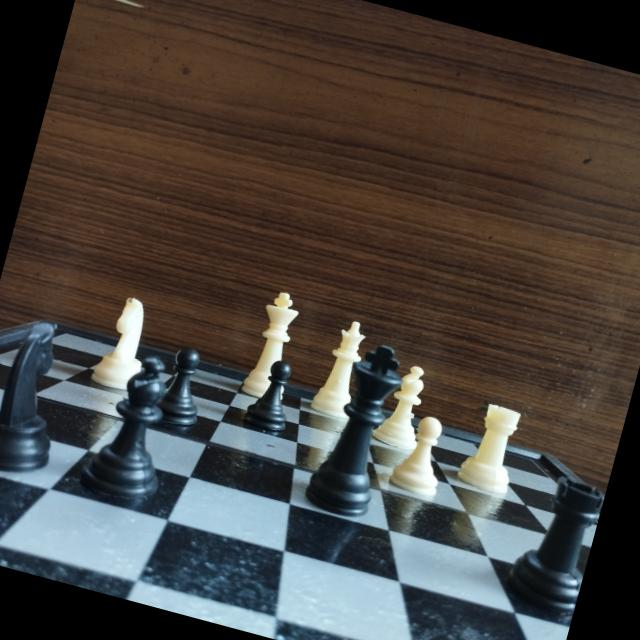Black Bishop: (72, 342, 192, 515)
Black King: (300, 332, 412, 524)
Black Knight: (0, 308, 86, 486)
Black Pawn: (153, 337, 218, 432), (238, 351, 306, 440)
Black Rook: (502, 463, 608, 623)
White Bishop: (370, 356, 434, 454)
White King: (236, 282, 314, 402)
White Knight: (85, 286, 162, 399)
White Pawn: (388, 408, 460, 504)
White Queen: (306, 310, 376, 428)
White Rook: (452, 394, 532, 500)
